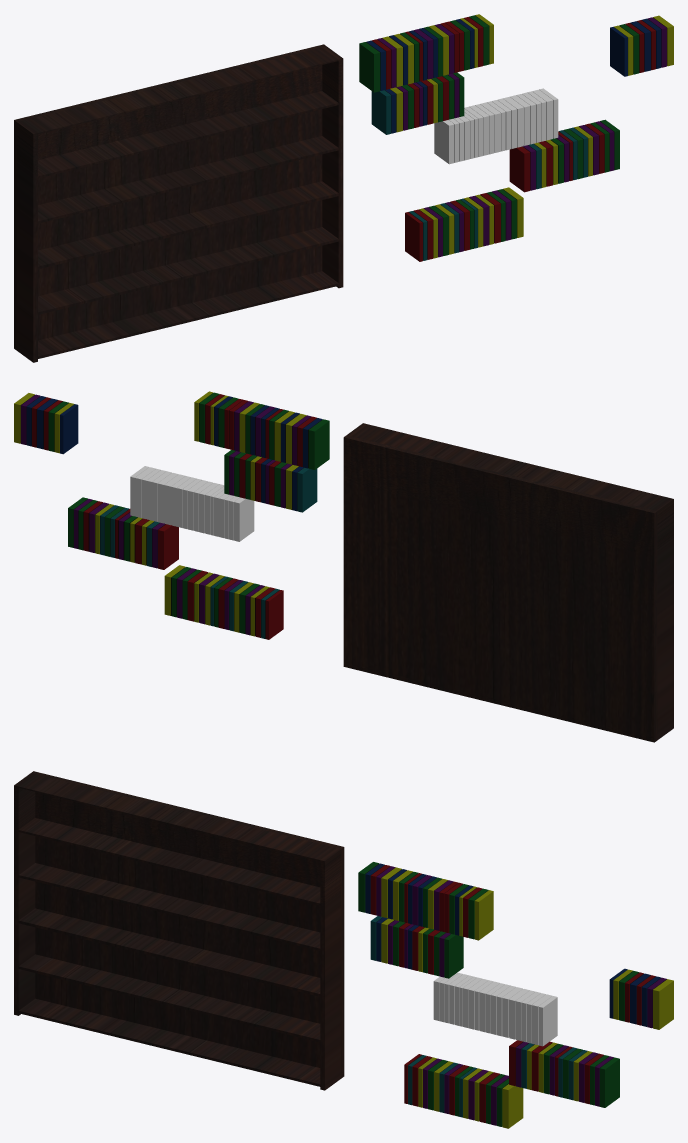
File: hondana2.fbx
3 renders of one model, top to bottom at view 1: azimuth 30°, elevation 25°; view 2: azimuth 150°, elevation 25°; view 3: azimuth 330°, elevation 25°, orthographic.
Parts seen in each view (by area): view 1: pCube1, Book1, Book4, Book6, Book5, Book2, Book3; view 2: pCube1, Book1, Book4, Book6, Book5, Book2, Book3; view 3: pCube1, Book1, Book4, Book6, Book5, Book2, Book3.
Part boxes in pixels (left/top/right/bottom): pCube1: left=14, top=44, right=343, bottom=362; Book1: left=359, top=14, right=493, bottom=92; Book4: left=434, top=88, right=558, bottom=164; Book6: left=405, top=187, right=523, bottom=261; Book5: left=509, top=119, right=619, bottom=192; Book2: left=371, top=72, right=464, bottom=134; Book3: left=610, top=15, right=673, bottom=76; pCube1: left=343, top=423, right=673, bottom=742; Book1: left=194, top=391, right=329, bottom=469; Book4: left=130, top=466, right=254, bottom=541; Book6: left=164, top=565, right=283, bottom=639; Book5: left=68, top=497, right=178, bottom=569; Book2: left=224, top=450, right=317, bottom=512; Book3: left=14, top=393, right=78, bottom=454; pCube1: left=14, top=771, right=344, bottom=1090; Book1: left=358, top=862, right=493, bottom=940; Book4: left=433, top=972, right=557, bottom=1046; Book6: left=404, top=1054, right=523, bottom=1128; Book5: left=509, top=1040, right=619, bottom=1107; Book2: left=370, top=916, right=463, bottom=978; Book3: left=609, top=968, right=673, bottom=1029.
Size of the model in its own units: 630 by 214 by 33.03.
